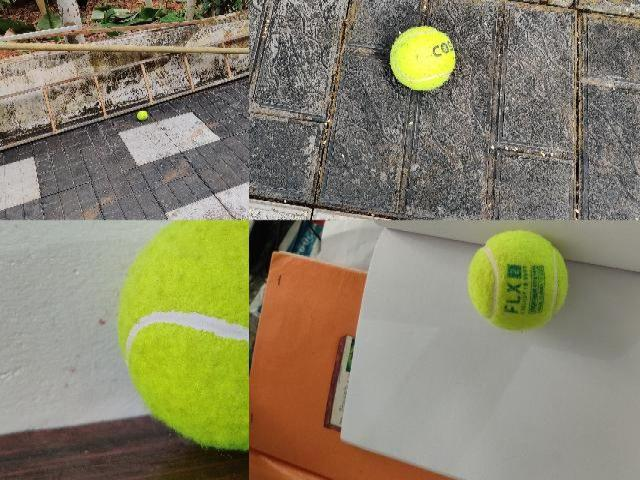tennis-ball: (117, 220, 248, 452), (467, 230, 567, 332), (389, 24, 455, 90), (136, 110, 148, 120)
